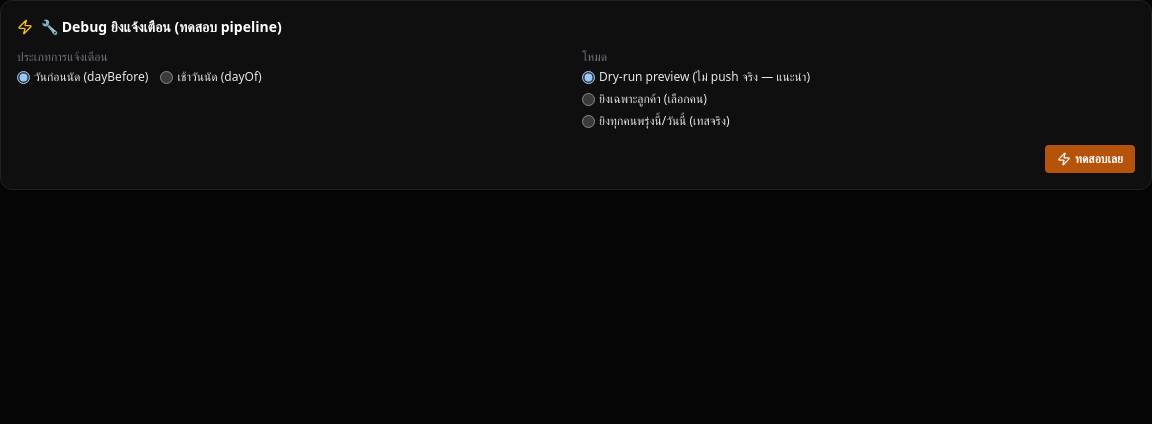
it: V69 Bug B — UI reads result.results.{sent,skipped,failed} (not root) › B.2 single-mode response with totalAttempted=0 shows no-candidates hint
Click the radio button labelled "ยิงเฉพาะลูกค้า (เลือกคน)": (588, 99) [582, 92, 595, 106]
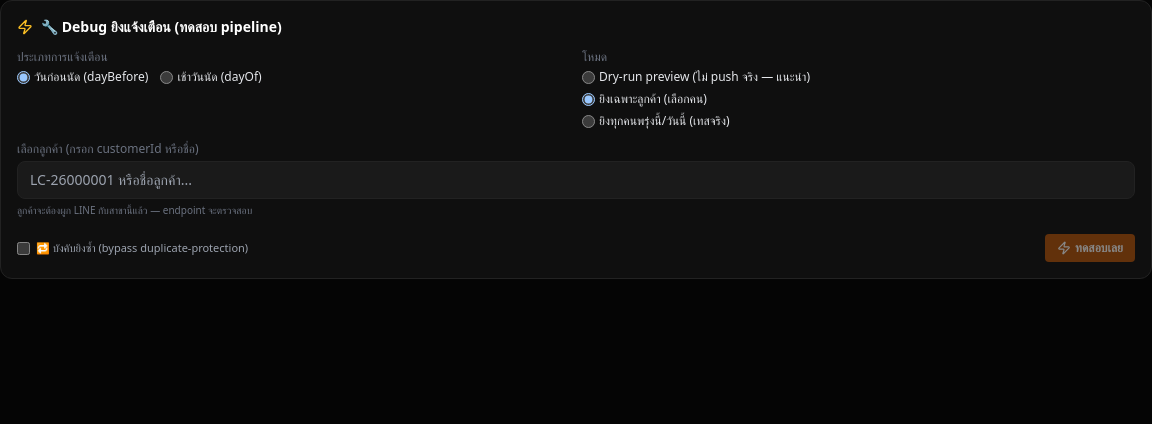
In the field with placeholder "LC-26000001 หรือชื่อลูกค้า...": (576, 180) [17, 161, 1135, 199], type "000004"
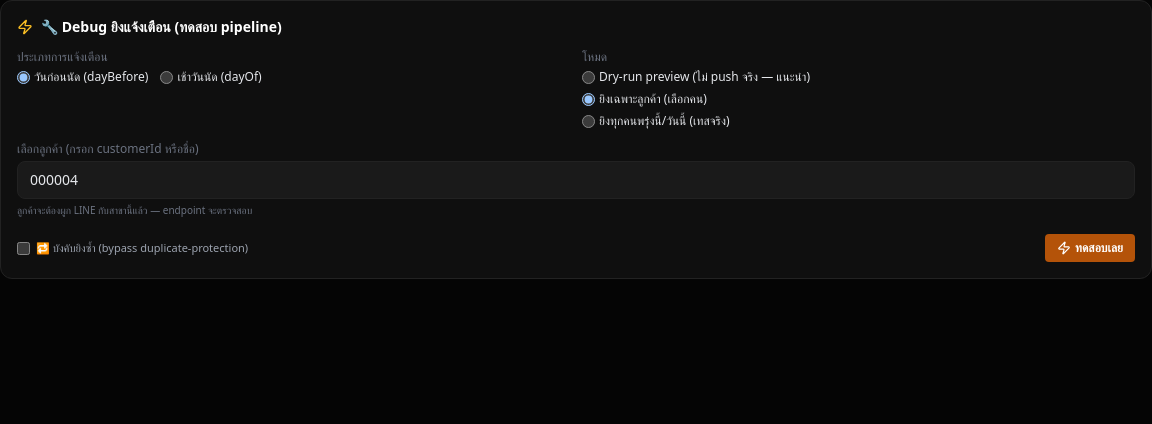
Click the button with test id "debug-fire-button": (1090, 248) [1045, 234, 1135, 262]
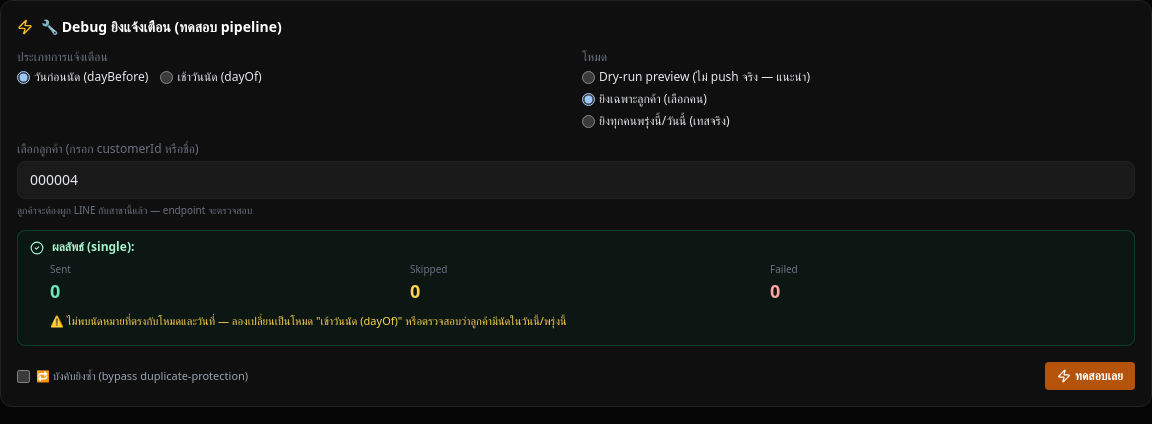
Result: the text with test id "debug-fire-no-candidates" is shown at [50, 313, 567, 328]
